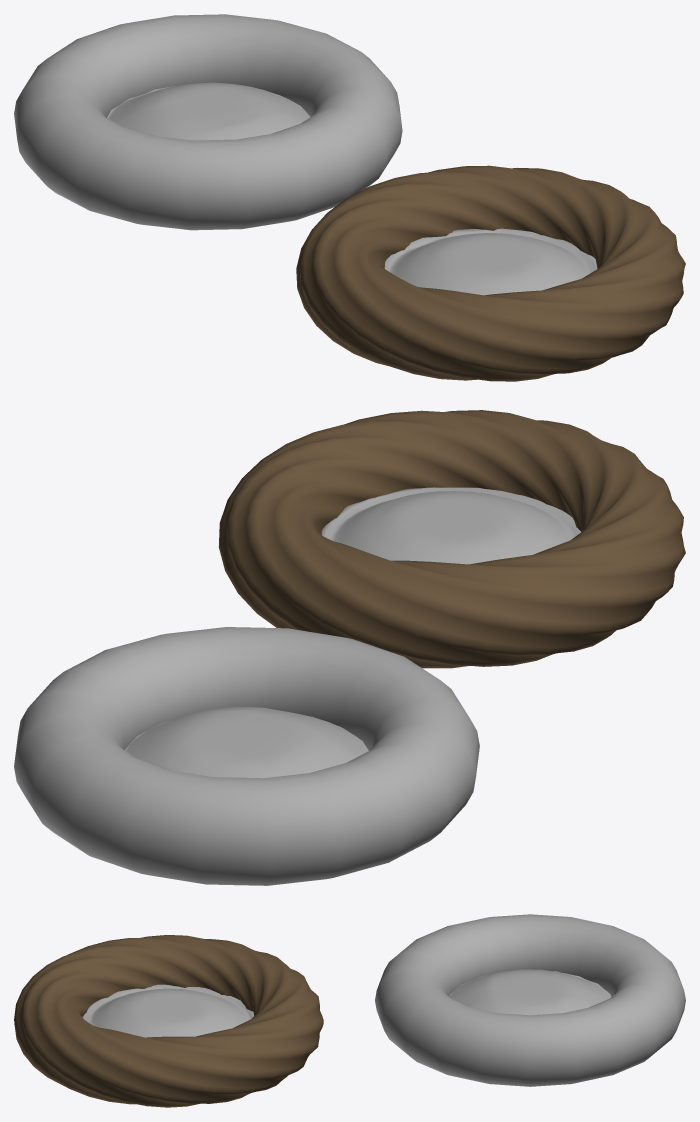
Rendered from cookie_high&low_001.fbx.
3 views of the same model, one above another, from view 1: azimuth 30°, elevation 25°; view 2: azimuth 150°, elevation 25°; view 3: azimuth 270°, elevation 25° (orthographic). The views are drawn at different scales.
Parts seen in each view (by area): view 1: pTorus2, polySurface2, polySurface1; view 2: pTorus2, polySurface2, polySurface1; view 3: pTorus2, polySurface2, polySurface1.
Boxes of the visible parts, left/top/right/bottom form: pTorus2: left=14, top=14, right=402, bottom=230; polySurface2: left=296, top=165, right=685, bottom=381; polySurface1: left=384, top=228, right=597, bottom=295; pTorus2: left=14, top=627, right=479, bottom=885; polySurface2: left=218, top=410, right=685, bottom=668; polySurface1: left=321, top=487, right=580, bottom=564; pTorus2: left=375, top=914, right=685, bottom=1086; polySurface2: left=14, top=935, right=323, bottom=1107; polySurface1: left=82, top=984, right=253, bottom=1037.
Size of the model in its own units: 6.79 by 1.36 by 12.6.
